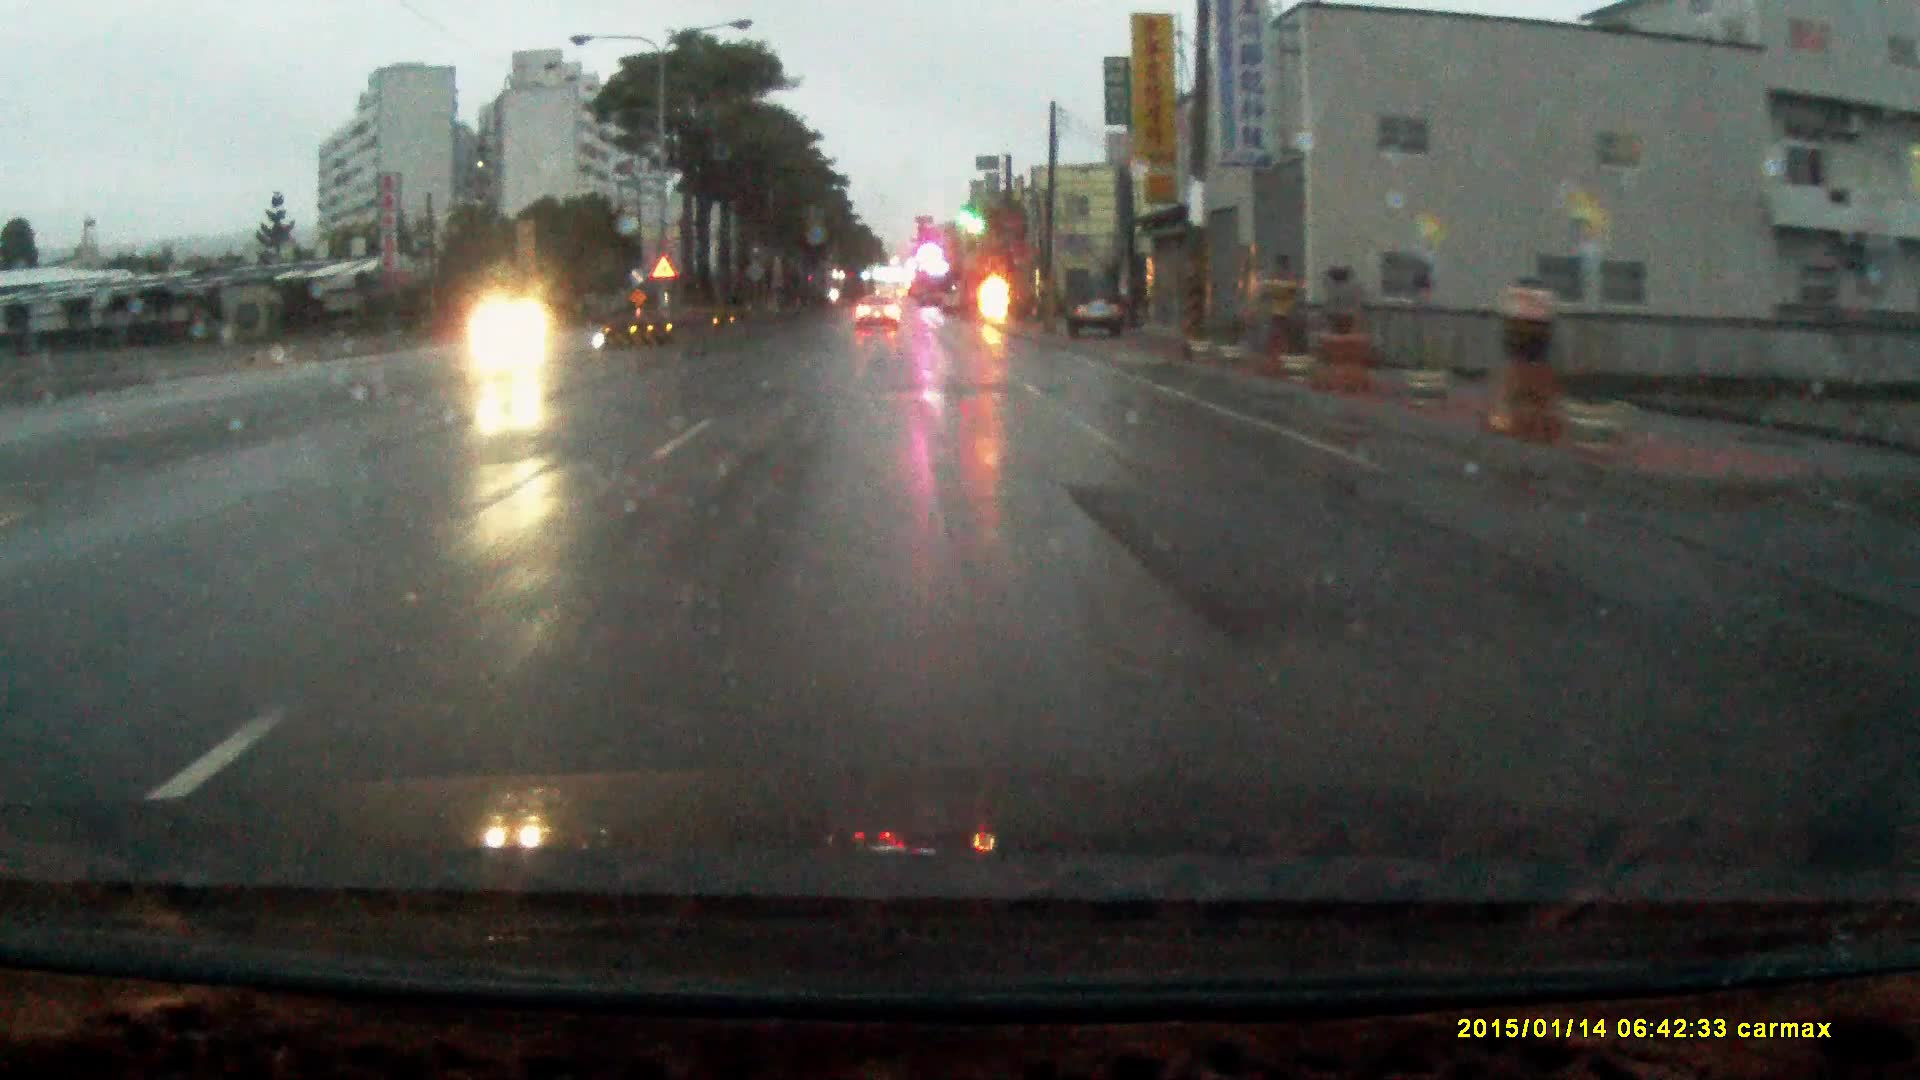vehicle: (1068, 285, 1129, 344), (855, 303, 905, 339)
